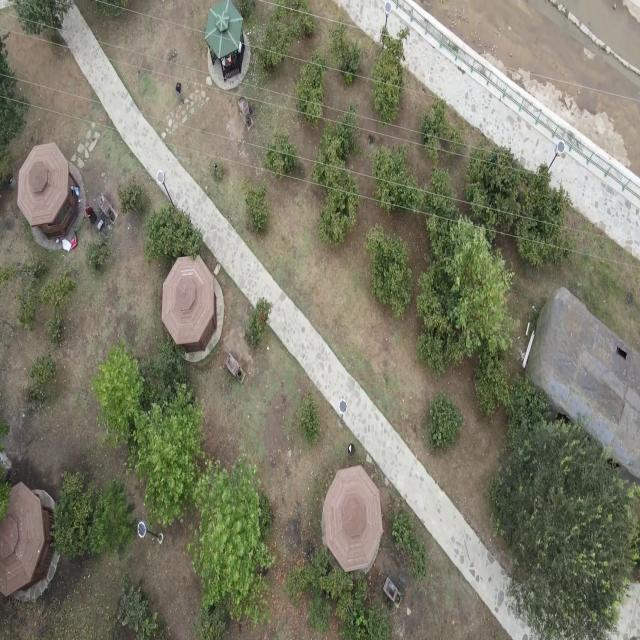people: (85, 204, 96, 223), (176, 83, 184, 104), (226, 54, 232, 66)
